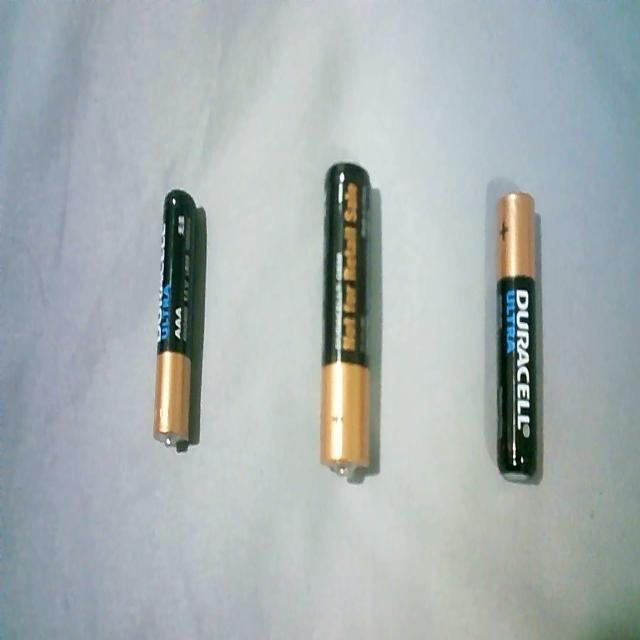AA: (314, 159, 384, 485)
AAA: (490, 188, 544, 485), (152, 183, 204, 454)
